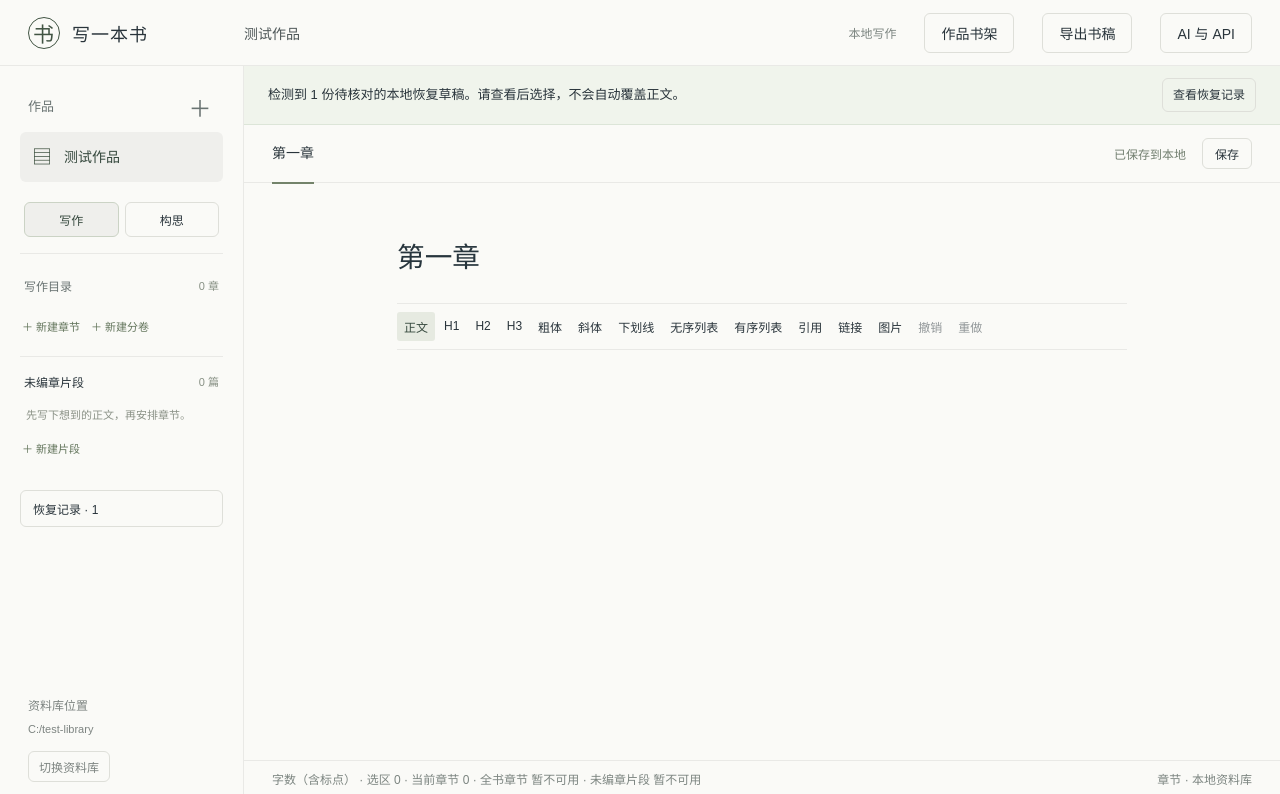
detects recoverable records on boot, waits for review, and continues only the exact selected sequence
The width and height of the screenshot is (1280, 794).
Click the button with class "recovery-sidebar-entry".
click(122, 508)  # box [20,490,223,527]
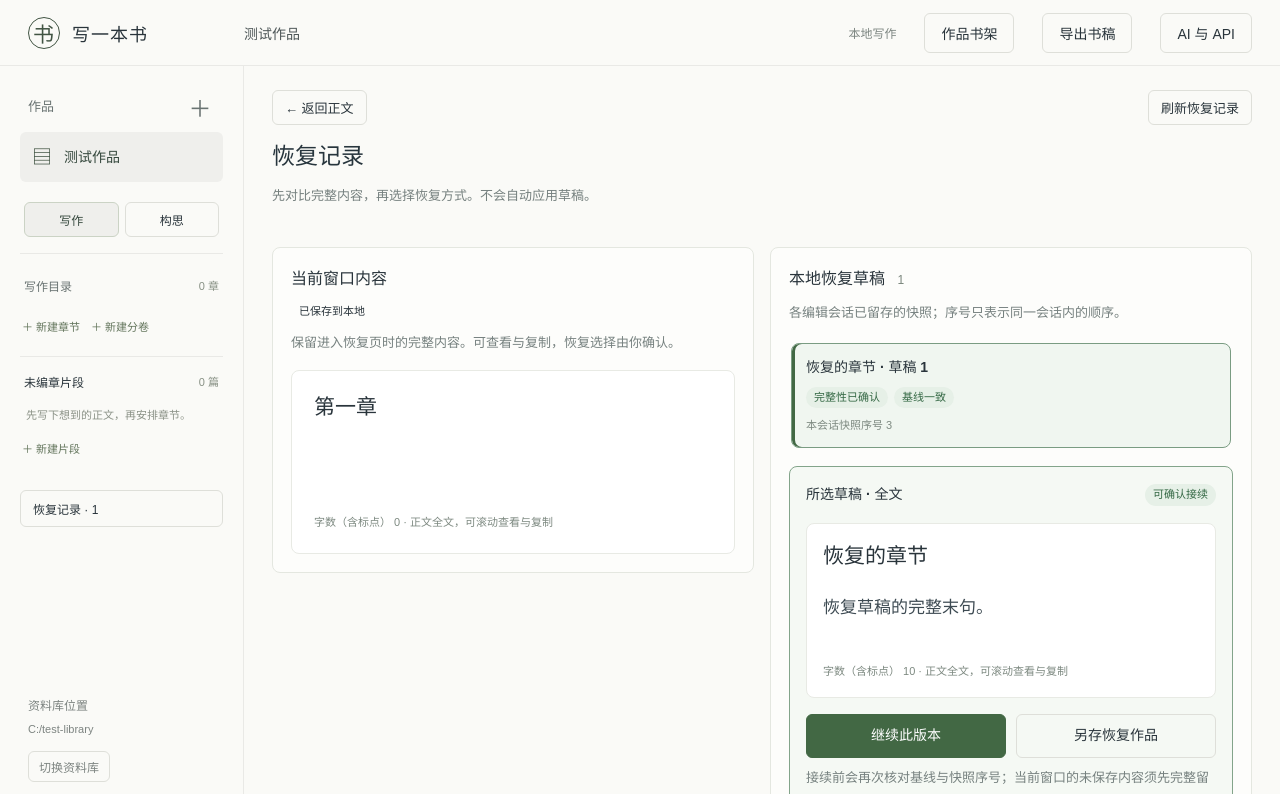
Now the element named "所选恢复草稿全文" shows "恢复草稿的完整末句。", box [823,598,993,617]
Click the button "继续此版本".
click(906, 736)  # box [806,714,1006,758]
(page scrolled)
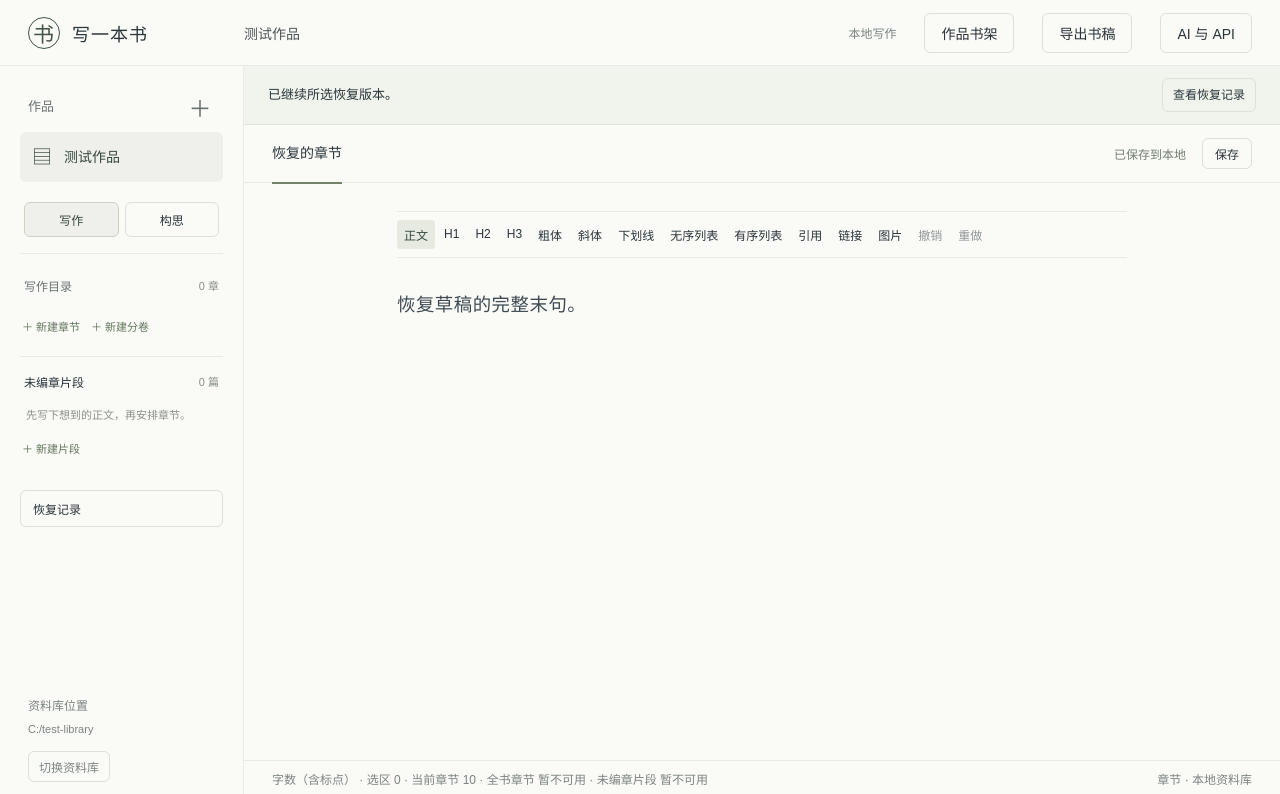
Now the field with id "chapter-body" reads "恢复草稿的完整末句。", box [397,295,586,315]
Now the text "已继续所选恢复版本" is shown, box [268,87,398,102]
